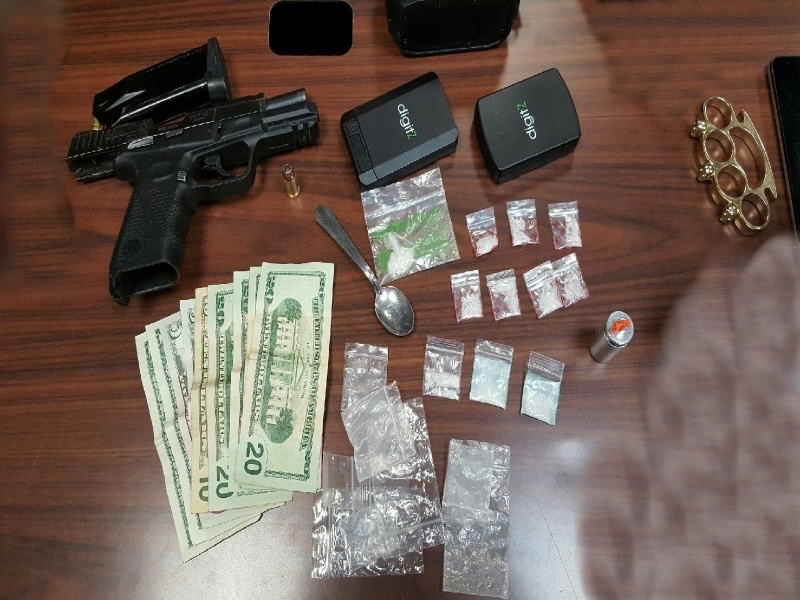cash: (135, 261, 336, 560)
weapon: (68, 89, 321, 306)
